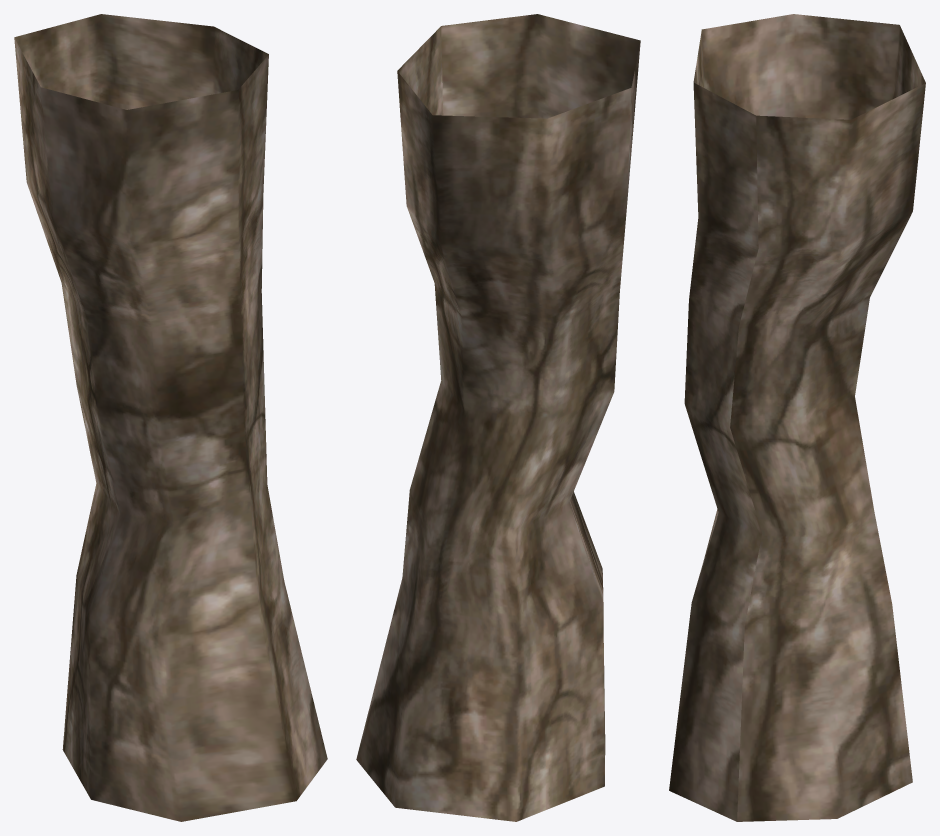
File: EKH_GROTTO_PS_GR_CYLINDER16.fbx
3 views of the same model, side by side, from view 1: azimuth 30°, elevation 25°; view 2: azimuth 150°, elevation 25°; view 3: azimuth 270°, elevation 25° (orthographic). The views are drawn at different scales.
Visible parts, largest first — view 1: EKH_GROTTO_PS_GR_CYLINDER16; view 2: EKH_GROTTO_PS_GR_CYLINDER16; view 3: EKH_GROTTO_PS_GR_CYLINDER16.
Boxes of the visible parts, x1,y1,x2,y2 form: EKH_GROTTO_PS_GR_CYLINDER16: [14, 14, 327, 821]; EKH_GROTTO_PS_GR_CYLINDER16: [356, 14, 640, 821]; EKH_GROTTO_PS_GR_CYLINDER16: [669, 14, 925, 821].
Bounding box in the file's own units: 26016 × 69109 × 23341.
Materials: 1 (1 with a texture image).
